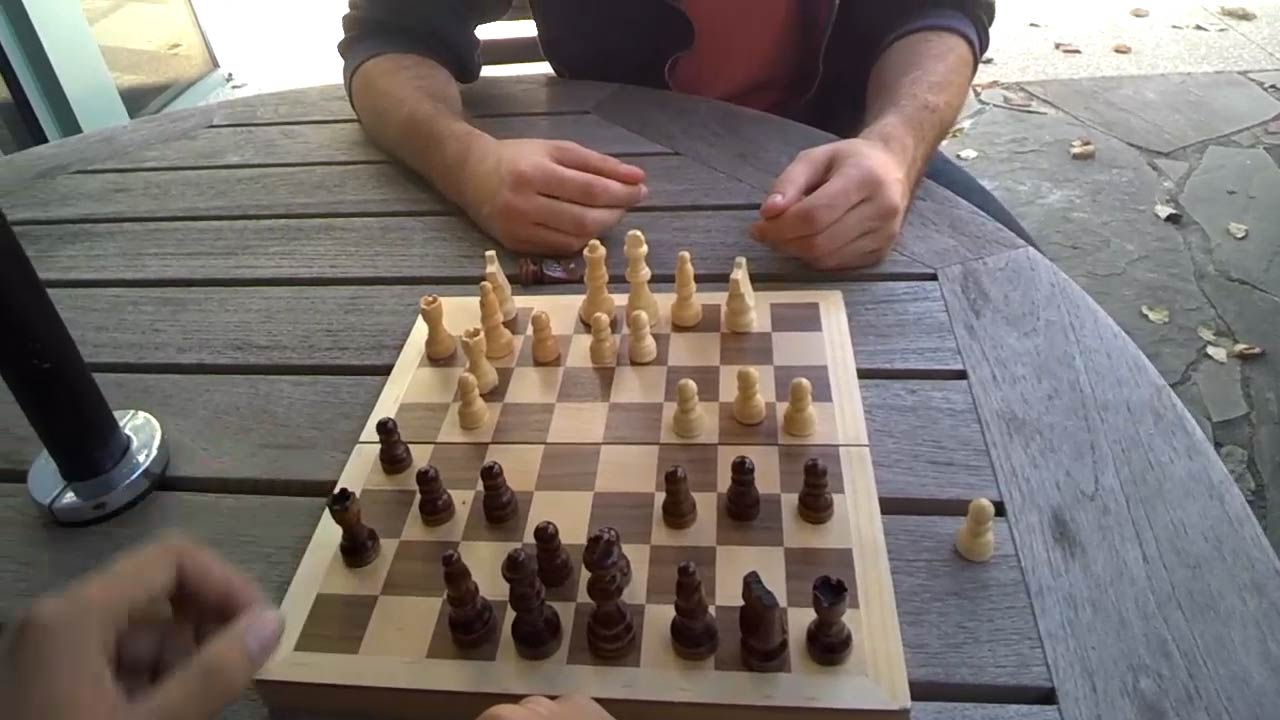hand: (0, 546, 271, 716), (468, 146, 649, 245), (757, 145, 900, 257), (485, 697, 603, 717)
